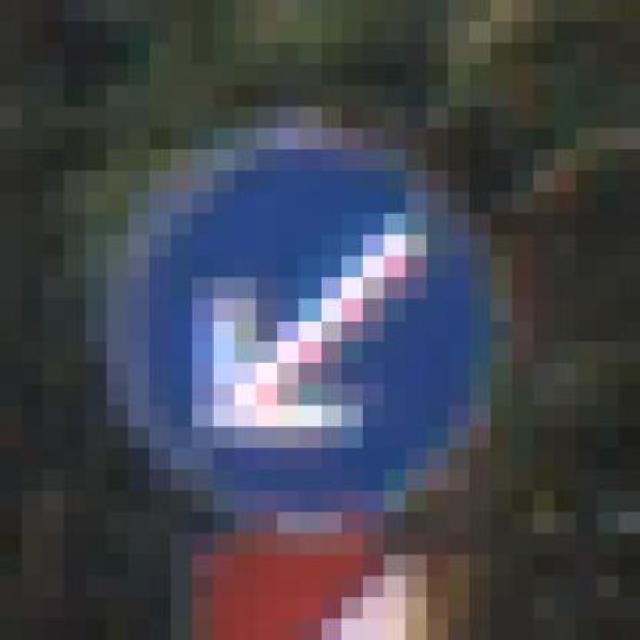Keep-Left: (64, 106, 533, 534)
